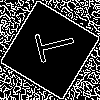T: (25, 25, 78, 67)
